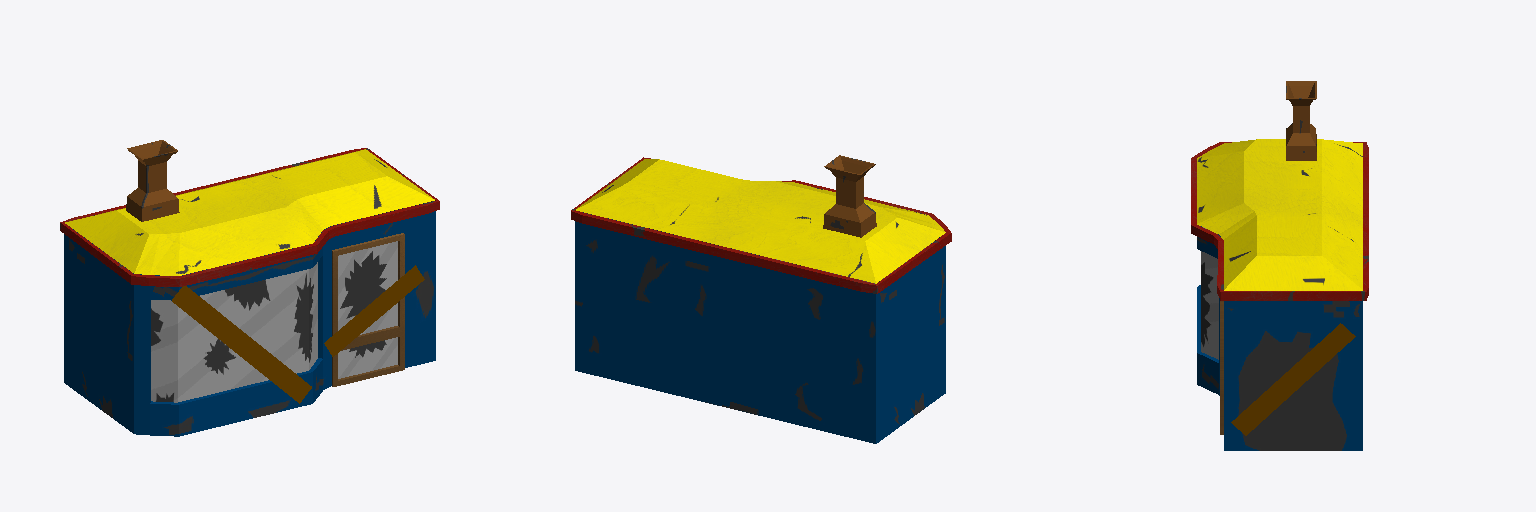
3 renders of one model, left to right at view 1: azimuth 30°, elevation 25°; view 2: azimuth 150°, elevation 25°; view 3: azimuth 270°, elevation 25°, orthographic.
Visible parts, largest first — view 1: polySurface4; view 2: polySurface4; view 3: polySurface4.
Part boxes in pixels (bbox=[...]): polySurface4: bbox=[60, 140, 439, 436]; polySurface4: bbox=[571, 155, 951, 443]; polySurface4: bbox=[1191, 81, 1368, 450].
Bounding box in the file's own units: 12.54 × 9.41 × 6.3.
1 materials, 1 textured.